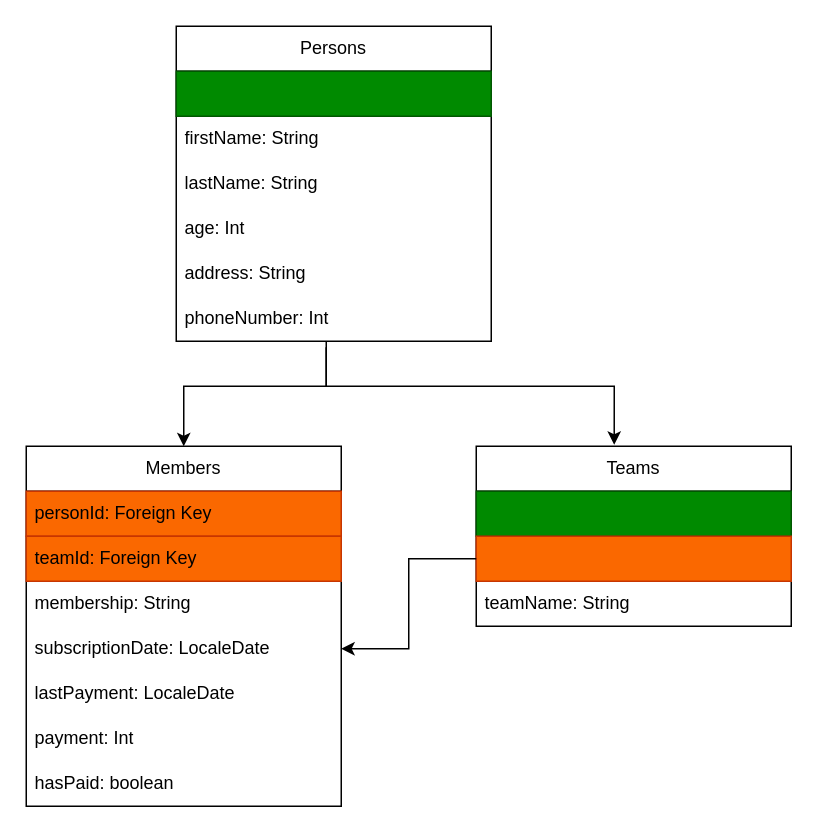
Image size: 818x833. Some labels were removed from this diagram. The shapes that lost their labels are listed below. From the top down, each one's centre as x and y in pixels, then its label:
At point 333,93: "personId: Primary Key".
At point 633,513: "teamId: Primary Key".
At point 633,558: "coachId: Foreign Key".
